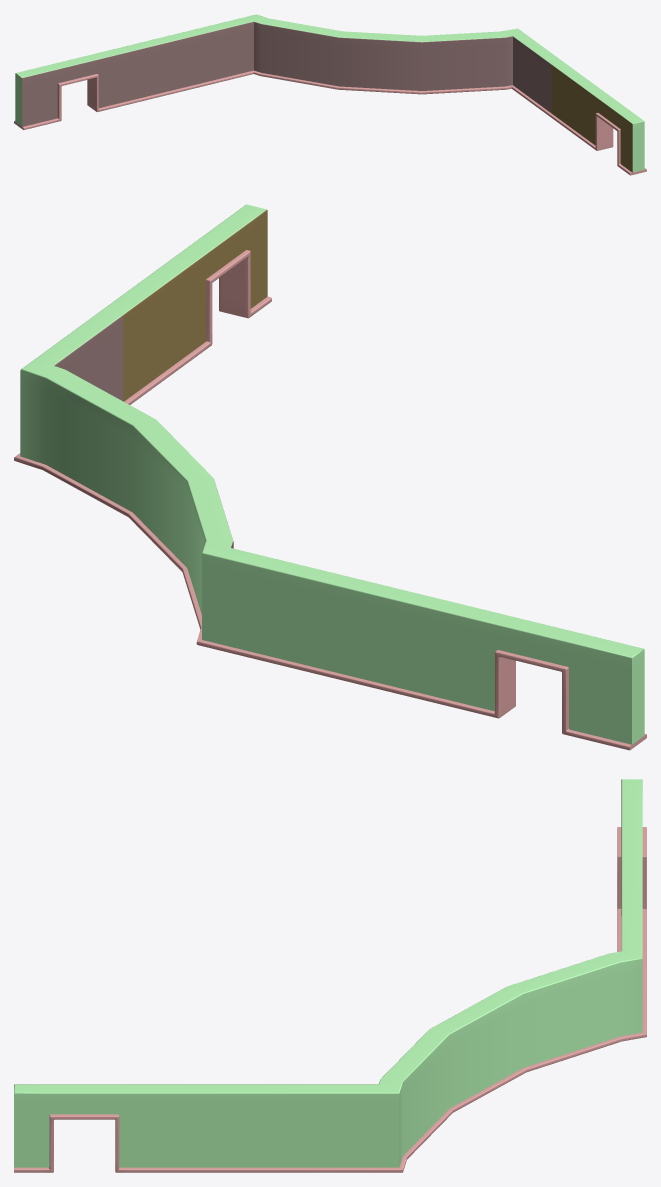
File: InnerWall_4.fbx
The picture shows the model from 3 angles, top to bottom: view 1: azimuth 30°, elevation 25°; view 2: azimuth 150°, elevation 25°; view 3: azimuth 270°, elevation 25°; orthographic projection. The views are drawn at different scales.
Visible parts, largest first — view 1: polySurface4; view 2: polySurface4; view 3: polySurface4.
Part boxes in pixels (x1,y1,x2,y2): polySurface4: (14, 14, 646, 175); polySurface4: (14, 204, 646, 750); polySurface4: (14, 779, 646, 1172).
Bounding box in the file's own units: 35.21 × 4.06 × 29.81.
